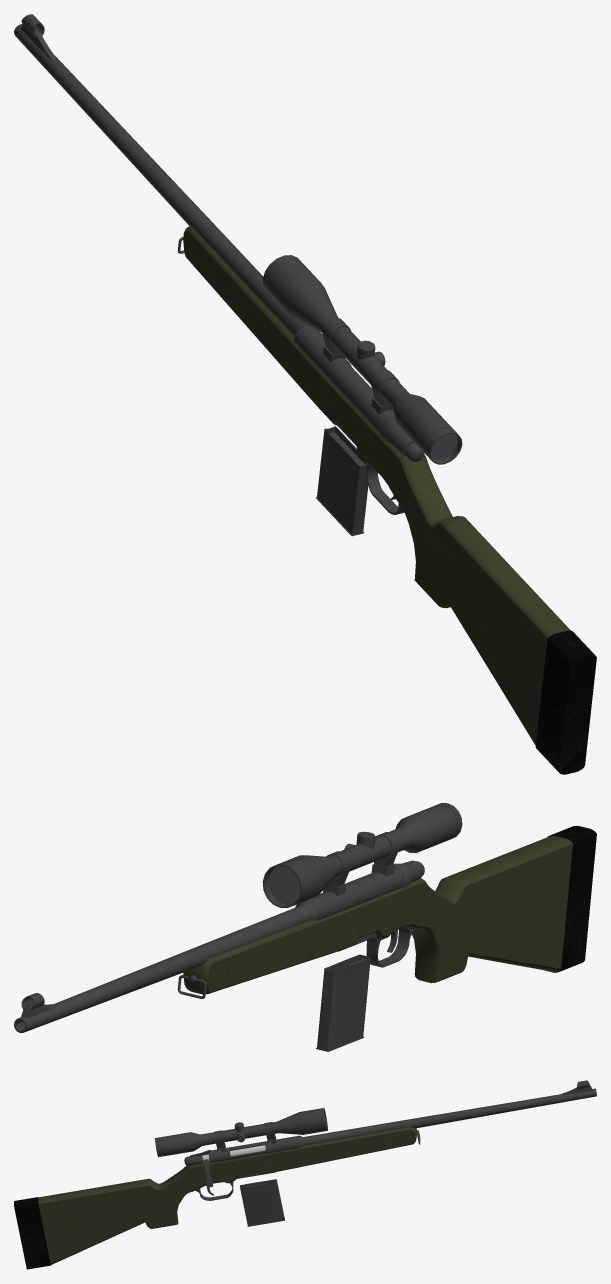
File: bunker47-gun-sniper.glb
3 views of the same model, one above another, from view 1: azimuth 30°, elevation 25°; view 2: azimuth 150°, elevation 25°; view 3: azimuth 270°, elevation 25° (orthographic). The views are drawn at different scales.
Visible parts, largest first — view 1: Stock, Barrel, Scope, Magazine; view 2: Stock, Barrel, Scope, Magazine, IronSight; view 3: Stock, Barrel, Scope, Magazine, Bolt.
Boxes of the visible parts, <box> form: Stock: <box>183,226,596,774</box>; Barrel: <box>14,24,414,514</box>; Scope: <box>262,255,462,464</box>; Magazine: <box>315,426,368,536</box>; Stock: <box>183,825,596,994</box>; Barrel: <box>14,860,422,1032</box>; Scope: <box>262,803,462,907</box>; Magazine: <box>316,954,370,1051</box>; IronSight: <box>21,993,57,1018</box>; Stock: <box>14,1127,417,1269</box>; Barrel: <box>190,1088,596,1200</box>; Scope: <box>155,1108,327,1157</box>; Magazine: <box>240,1179,284,1226</box>; Bolt: <box>184,1145,265,1187</box>.
Size of the model in its own units: 5.68 by 39.66 by 112.
Materials: 1 (1 with a texture image).
